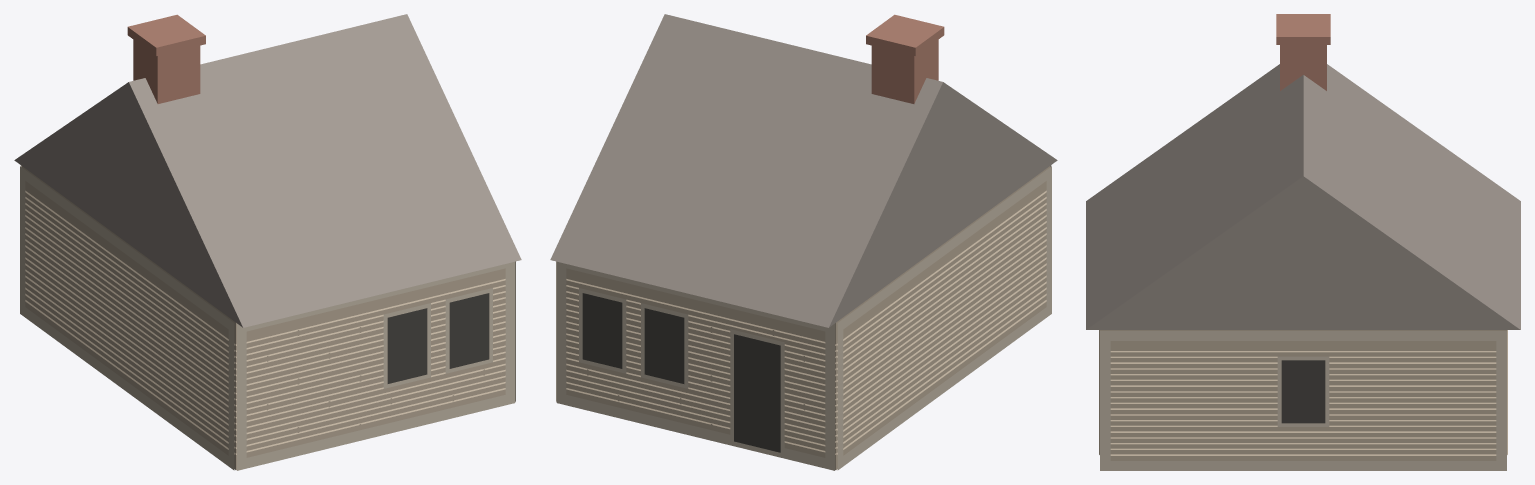
Rendered from inf_brickmaker_dwelling_north__inferred_1835.glb.
The picture shows the model from 3 angles, left to right: view 1: azimuth 30°, elevation 25°; view 2: azimuth 150°, elevation 25°; view 3: azimuth 270°, elevation 25°; orthographic projection. The views are drawn at different scales.
Parts seen in each view (by area): view 1: inf_brickmaker_dwelling_north__inferred_1835; view 2: inf_brickmaker_dwelling_north__inferred_1835; view 3: inf_brickmaker_dwelling_north__inferred_1835.
Boxes of the visible parts, x1,y1,x2,y2 form: inf_brickmaker_dwelling_north__inferred_1835: (14, 14, 521, 470); inf_brickmaker_dwelling_north__inferred_1835: (550, 14, 1057, 470); inf_brickmaker_dwelling_north__inferred_1835: (1086, 14, 1520, 470).
Bounding box in the file's own units: 5.57 × 6.61 × 7.82.
